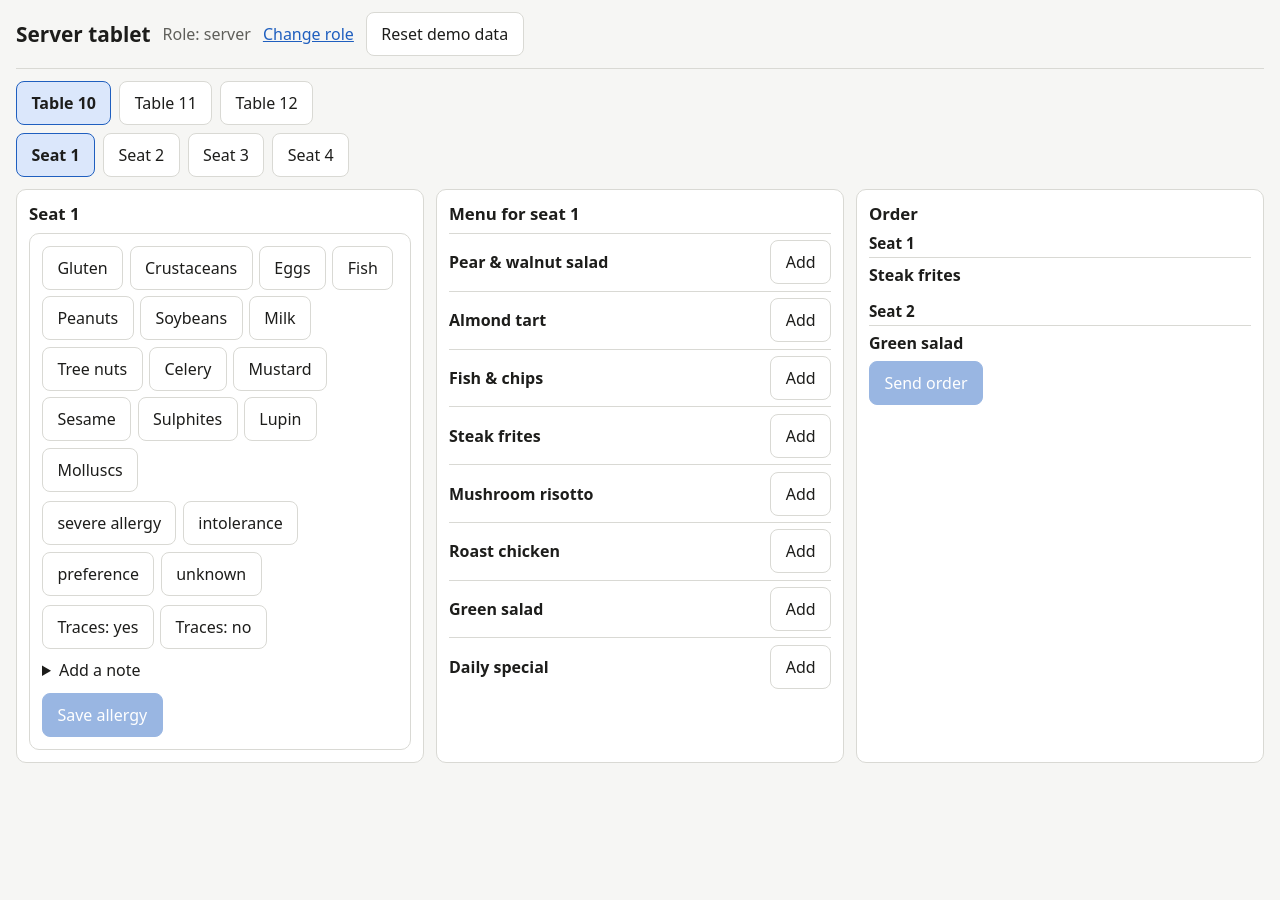
US1 allergy panel › REQ-02: an item added after the allergy carries it; "Add" adds to the selected seat
What coordinates should you click on to do the following:
click the button "Table 12"
I would click on:
 (267, 103)
Its box is [220,81,313,125].
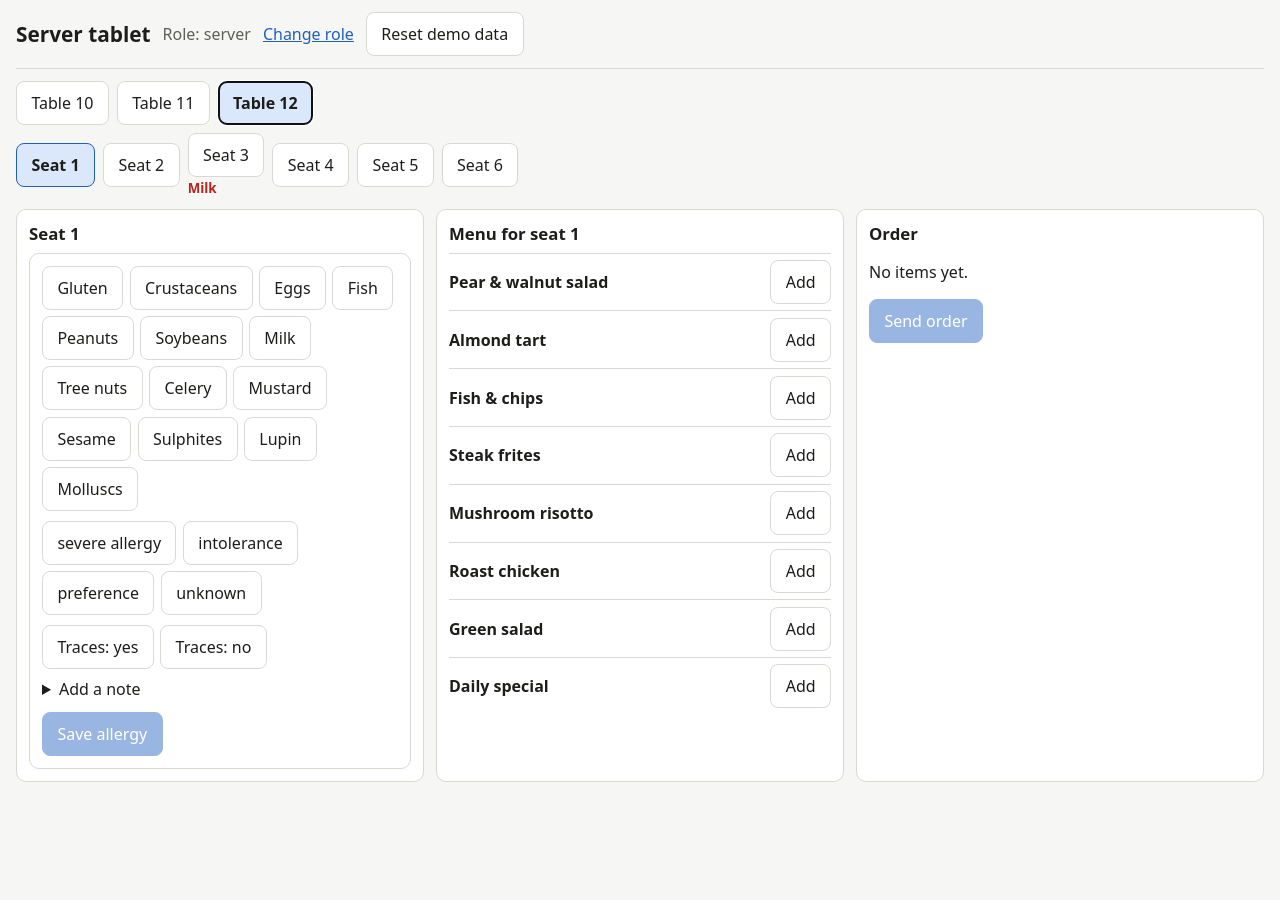
What coordinates should you click on to do the following:
click the button "Seat 3"
I would click on:
 (226, 155)
Its box is [188,133,264,177].
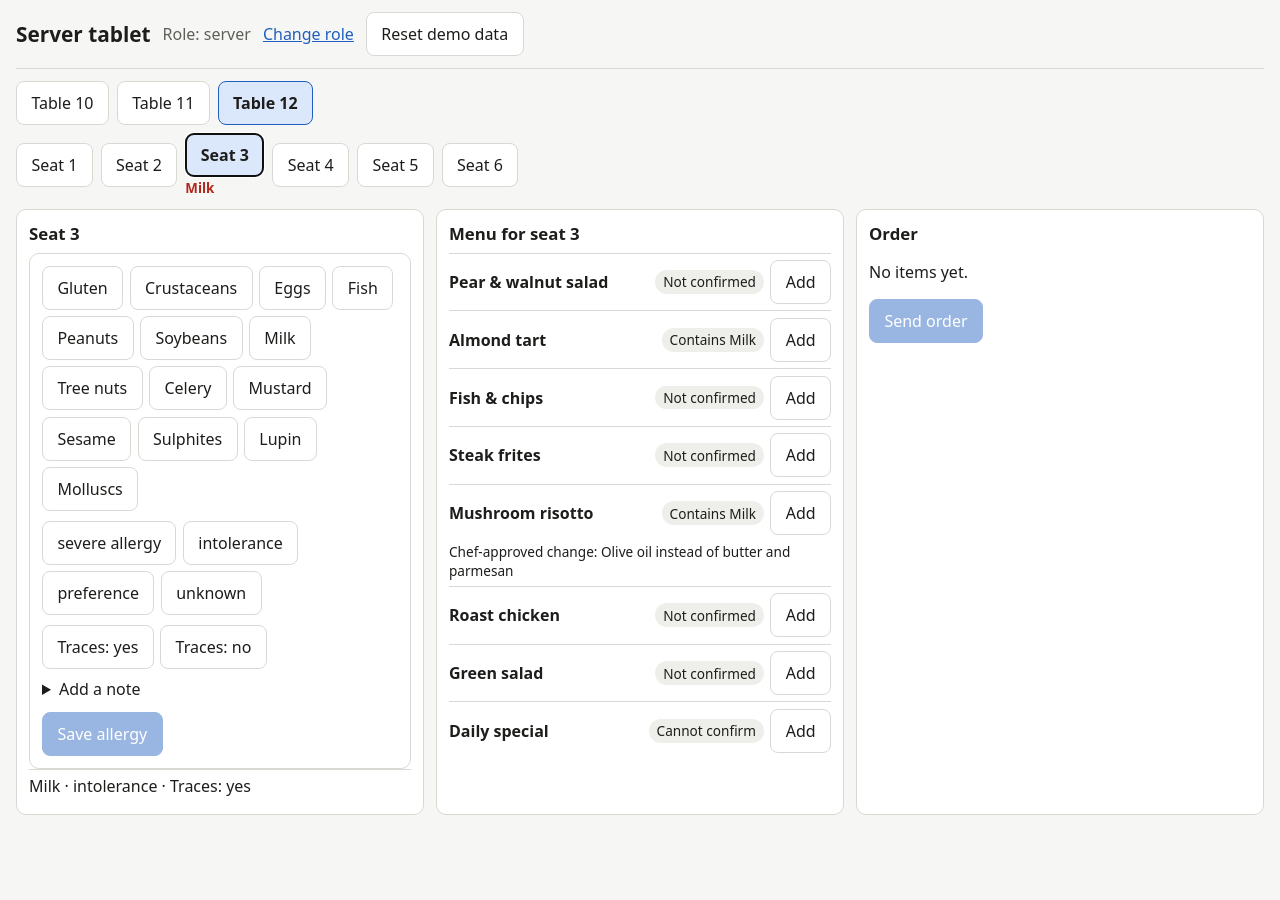
What coordinates should you click on to do the following:
click the button with aria-label "Add Steak frites"
I would click on:
 (801, 455)
Its box is [770,433,831,477].
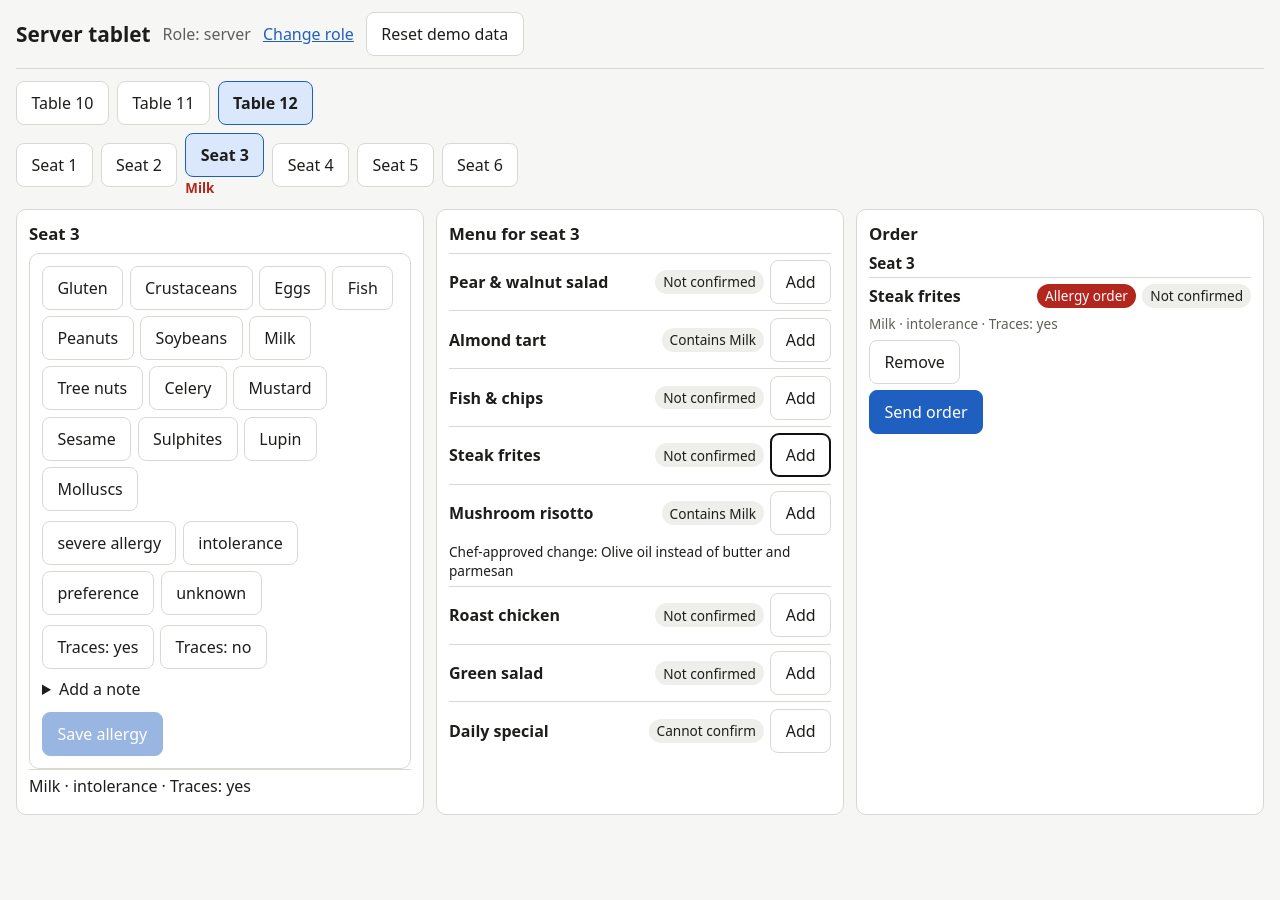
Now the list item with test id "order-item" shows "Milk", box [869,314,1058,333]
Now the list item with test id "order-item" shows "Allergy order", box [1045,286,1128,305]
